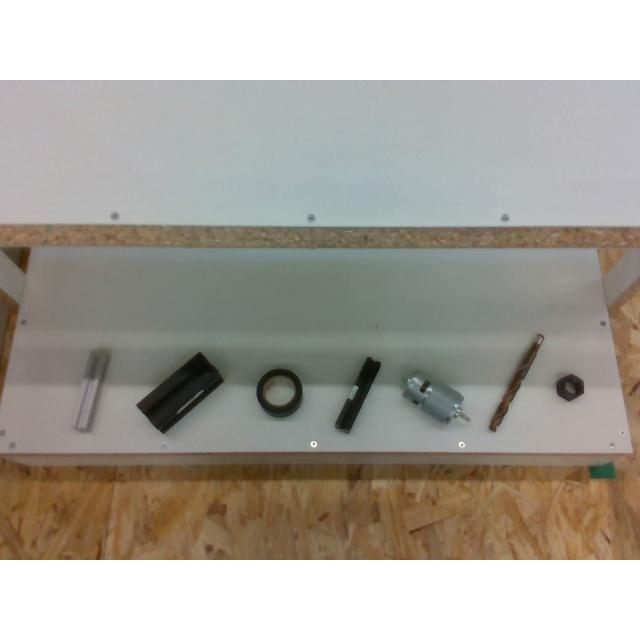Drill: (488, 333, 544, 431)
F20_20_B: (334, 356, 380, 432)
F20_20_G: (72, 348, 110, 432)
M20: (556, 372, 584, 400)
Motor2: (402, 373, 470, 422)
S40_40_B: (136, 352, 222, 432)
